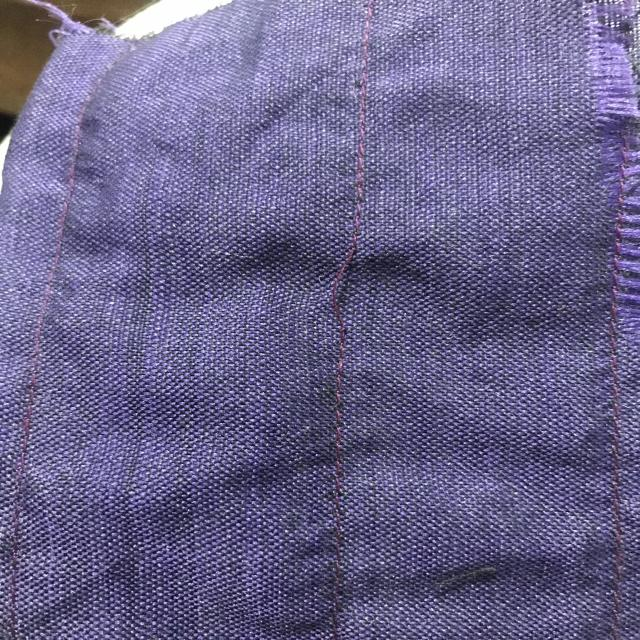good: (318, 366, 368, 474)
skip: (294, 230, 388, 344)
